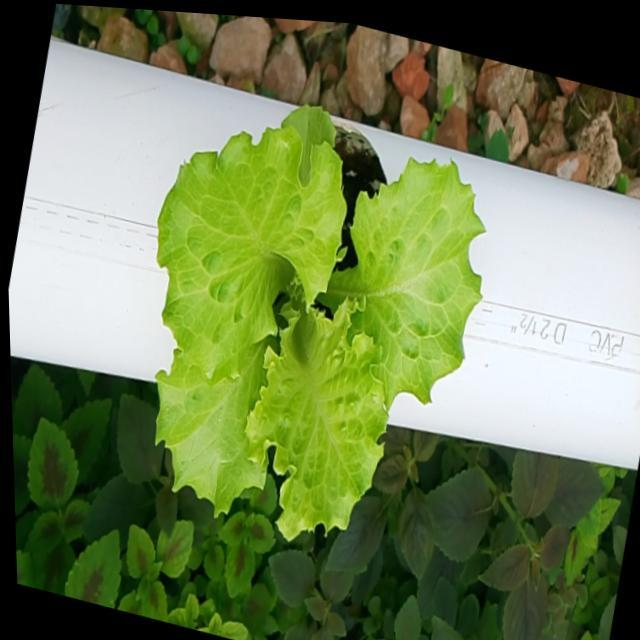Baby: (157, 105, 486, 540)
